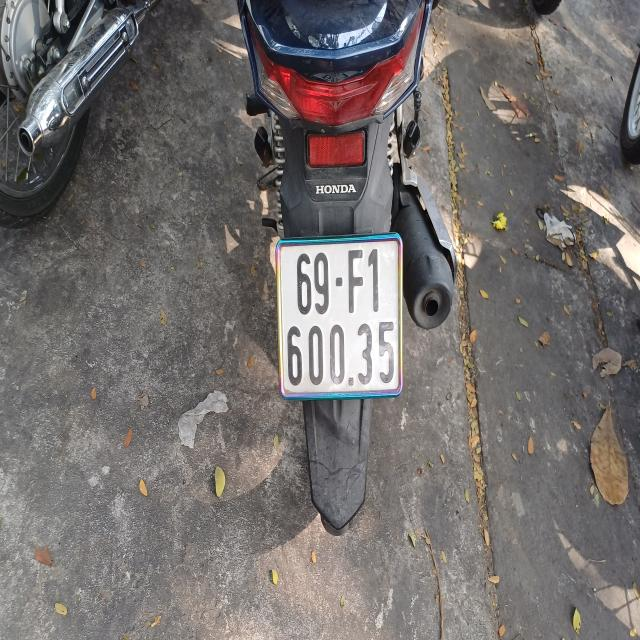0: (328, 325, 346, 387), (308, 324, 324, 388)
1: (367, 248, 380, 313)
3: (358, 322, 373, 386)
5: (377, 319, 395, 386)
6: (286, 326, 304, 388), (296, 253, 312, 317)
9: (314, 252, 332, 316)
F: (347, 249, 364, 313)
